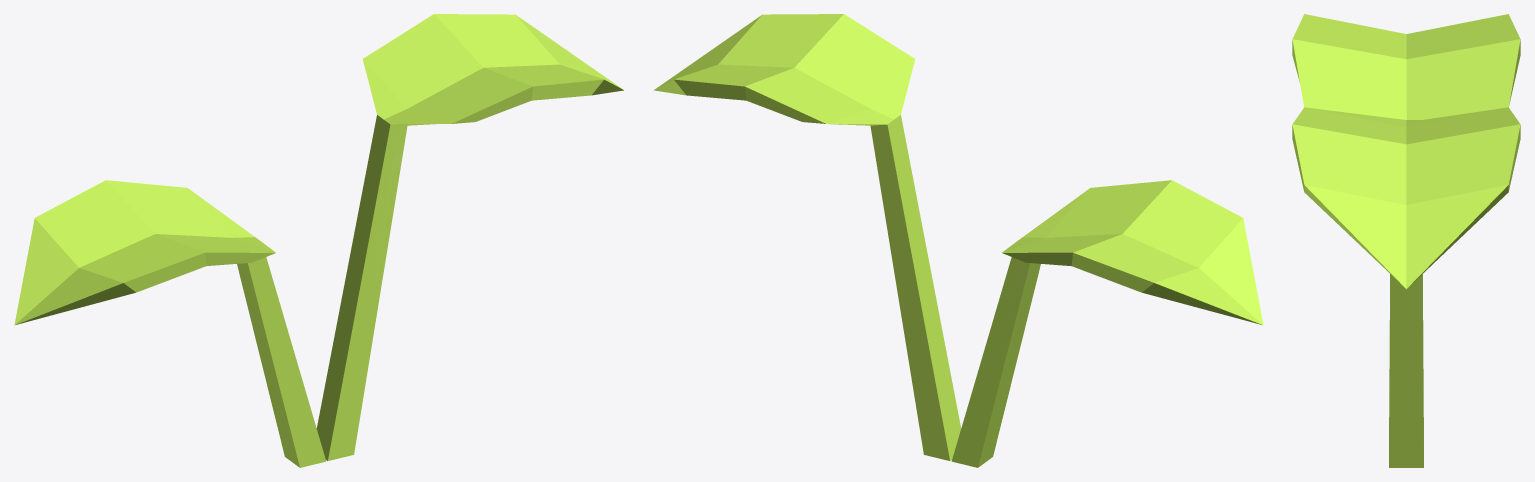
File: Sprout.fbx
3 renders of one model, left to right at view 1: azimuth 30°, elevation 25°; view 2: azimuth 150°, elevation 25°; view 3: azimuth 270°, elevation 25°, orthographic. The views are drawn at different scales.
Visible parts, largest first — view 1: Cube.022; view 2: Cube.022; view 3: Cube.022.
Boxes of the visible parts, x1,y1,x2,y2 form: Cube.022: [14, 14, 623, 467]; Cube.022: [654, 14, 1263, 467]; Cube.022: [1292, 14, 1520, 467].
Bounding box in the file's own units: 16.02 × 9.17 × 4.51.
Materials: 1 (1 with a texture image).
